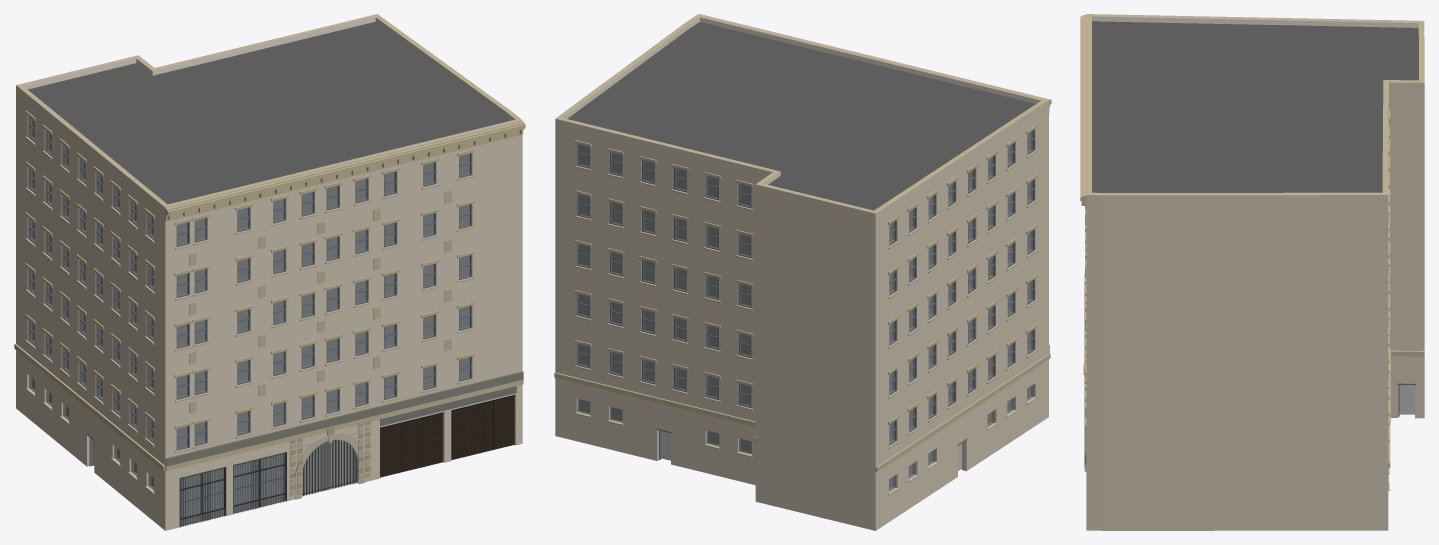
Rendered from exterior.glb.
3 renders of one model, left to right at view 1: azimuth 30°, elevation 25°; view 2: azimuth 150°, elevation 25°; view 3: azimuth 270°, elevation 25°, orthographic. The views are drawn at different scales.
Parts seen in each view (by area): view 1: shell, roof, glazing, trim, shadow-proxy, storefront, frames, front-dressing, hand-ornament, hyC-arches-4; view 2: shell, roof, glazing, trim, shadow-proxy, frames; view 3: shell, roof, trim, shadow-proxy.
Boxes of the visible parts, x1=… form: shell: x1=16, y1=14, x2=522, y2=530; roof: x1=28, y1=22, x2=510, y2=204; glazing: x1=29, y1=117, x2=470, y2=518; trim: x1=14, y1=110, x2=525, y2=494; shadow-proxy: x1=32, y1=120, x2=469, y2=517; storefront: x1=86, y1=394, x2=515, y2=527; frames: x1=28, y1=116, x2=471, y2=450; front-dressing: x1=165, y1=371, x2=523, y2=467; hand-ornament: x1=189, y1=190, x2=451, y2=496; hyC-arches-4: x1=295, y1=432, x2=365, y2=499; shell: x1=555, y1=14, x2=1048, y2=530; roof: x1=567, y1=22, x2=1035, y2=210; glazing: x1=577, y1=131, x2=1033, y2=491; trim: x1=554, y1=14, x2=1051, y2=495; shadow-proxy: x1=579, y1=132, x2=1030, y2=488; frames: x1=577, y1=129, x2=1034, y2=445; shell: x1=1086, y1=14, x2=1424, y2=530; roof: x1=1092, y1=21, x2=1418, y2=192; trim: x1=1080, y1=15, x2=1424, y2=490; shadow-proxy: x1=1399, y1=385, x2=1414, y2=414.
Bounding box in the file's own units: 25.92 × 22.24 × 20.68.
